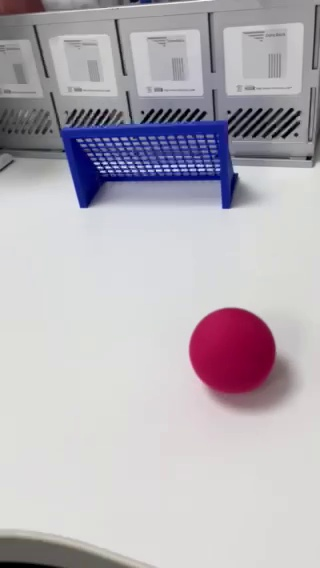goal: (59, 115, 238, 211)
redball: (190, 308, 275, 395)
